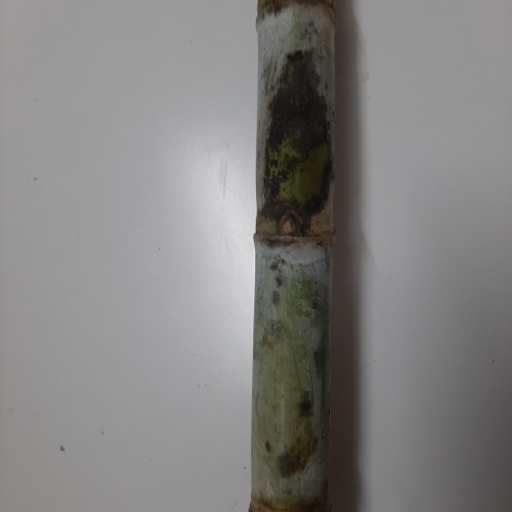Bud: (281, 212, 301, 237)
